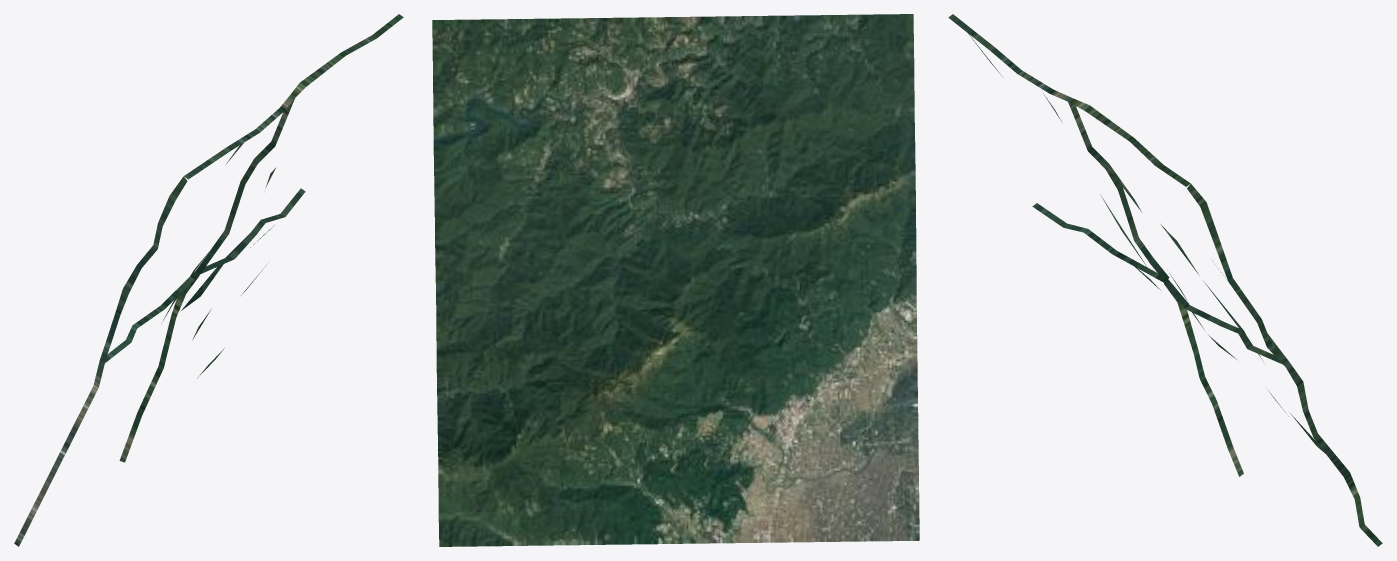
3 renders of one model, left to right at view 1: azimuth 30°, elevation 25°; view 2: azimuth 150°, elevation 25°; view 3: azimuth 270°, elevation 25°, orthographic. The views are drawn at different scales.
Size of the model in its own units: 19525 by 18153 by 16858.
1 material, 1 textured.
